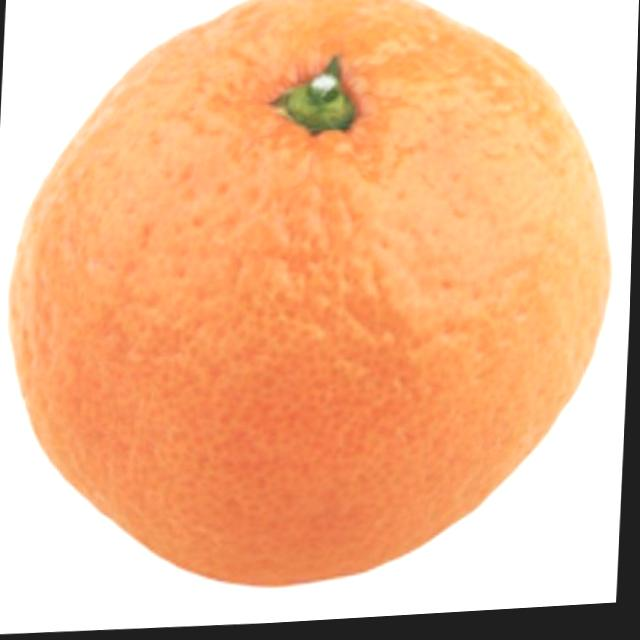Orange: (0, 0, 627, 610)
